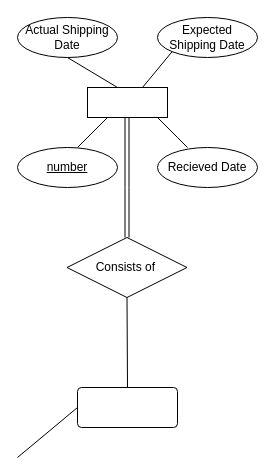
This 275x476 diagram has some shape labels left out. The box of each missing label's shape, as (x1, y1, x2, y2) in pixels:
Orders: (86, 86, 168, 118)
Parts: (76, 386, 178, 428)
